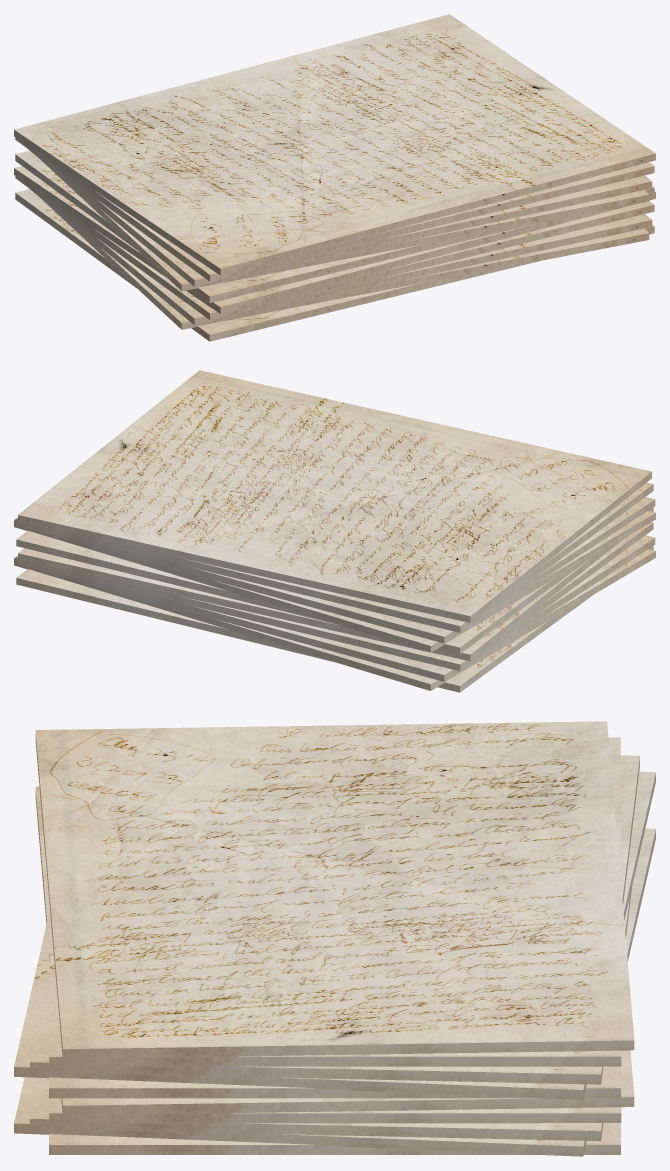
File: Paperstack2.fbx
3 renders of one model, top to bottom at view 1: azimuth 30°, elevation 25°; view 2: azimuth 150°, elevation 25°; view 3: azimuth 270°, elevation 25°, orthographic. The views are drawn at different scales.
Parts seen in each view (by area): view 1: paperstack2; view 2: paperstack2; view 3: paperstack2.
Part boxes in pixels (box(x1,y1,x2,y2)): paperstack2: box(14, 14, 655, 341); paperstack2: box(14, 370, 655, 692); paperstack2: box(14, 721, 655, 1156).
Bounding box in the file's own units: 0.2795 × 0.042 × 0.2223.
1 material, 1 textured.
